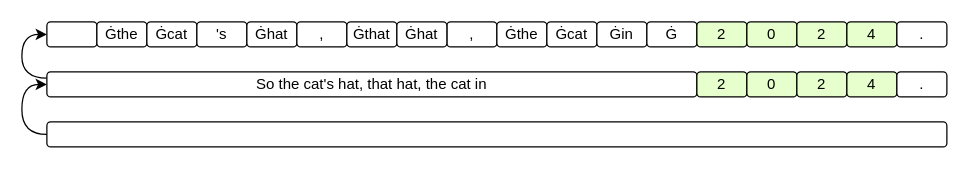
This 969x169 diagram has some shape labels left out. Here are the shapes that lost their labels. From the top down, the centre of each, then its label:
the point at 71,34: So
the point at 496,134: So the cat's hat, that hat, the cat in 2024.
